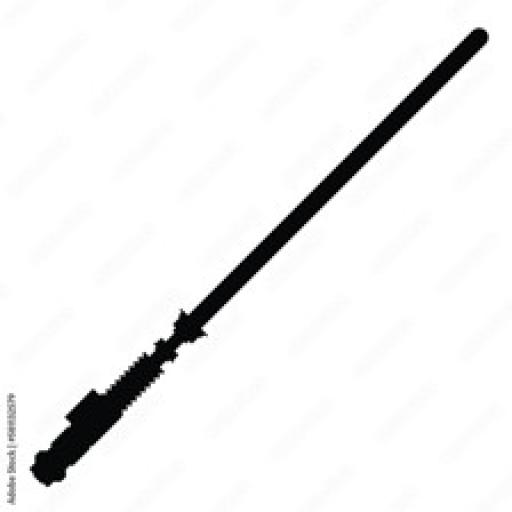lightsaber: (30, 308, 207, 491)
